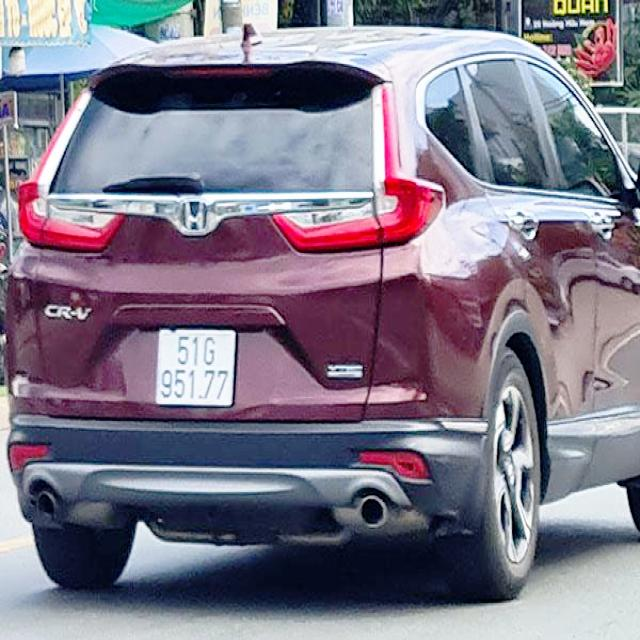license_plate: (158, 331, 236, 405)
